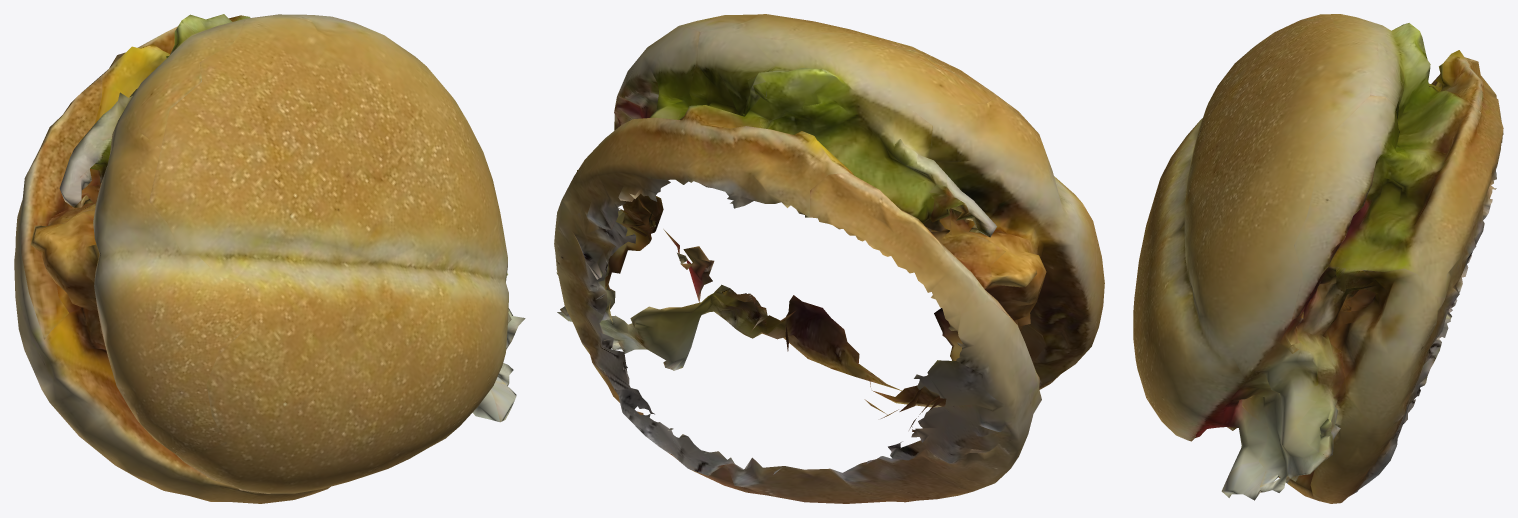
3 views of the same model, side by side, from view 1: azimuth 30°, elevation 25°; view 2: azimuth 150°, elevation 25°; view 3: azimuth 270°, elevation 25° (orthographic). The views are drawn at different scales.
Bounding box in the file's own units: 2.7 × 2.51 × 1.95.
Materials: 1 (1 with a texture image).
